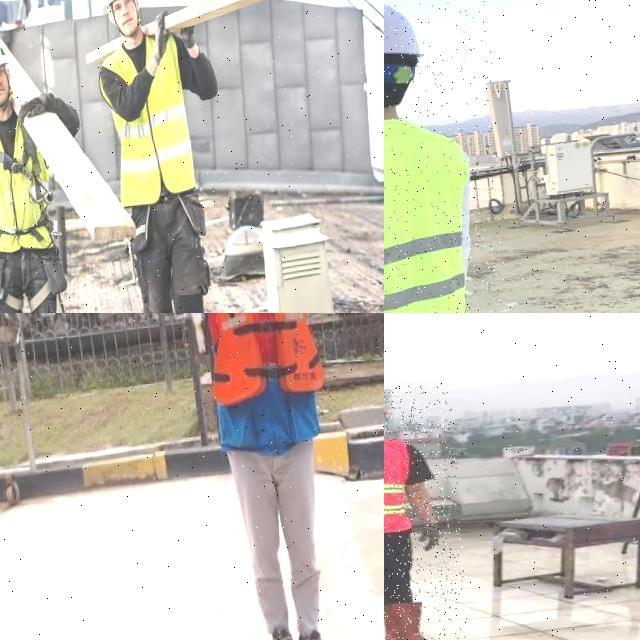boots: (384, 600, 455, 640), (260, 623, 298, 640), (293, 626, 339, 640)
helmet: (384, 0, 424, 67), (0, 29, 19, 91), (94, 0, 146, 15)
vest: (89, 19, 213, 217), (384, 113, 480, 313), (204, 313, 329, 449), (0, 92, 68, 260), (384, 438, 413, 539)
